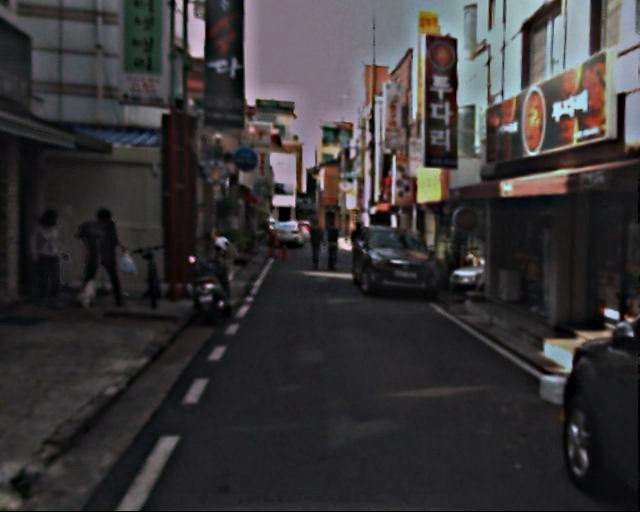person: (28, 203, 86, 312), (84, 202, 133, 309), (306, 220, 329, 270), (349, 221, 370, 272), (324, 221, 345, 270)
